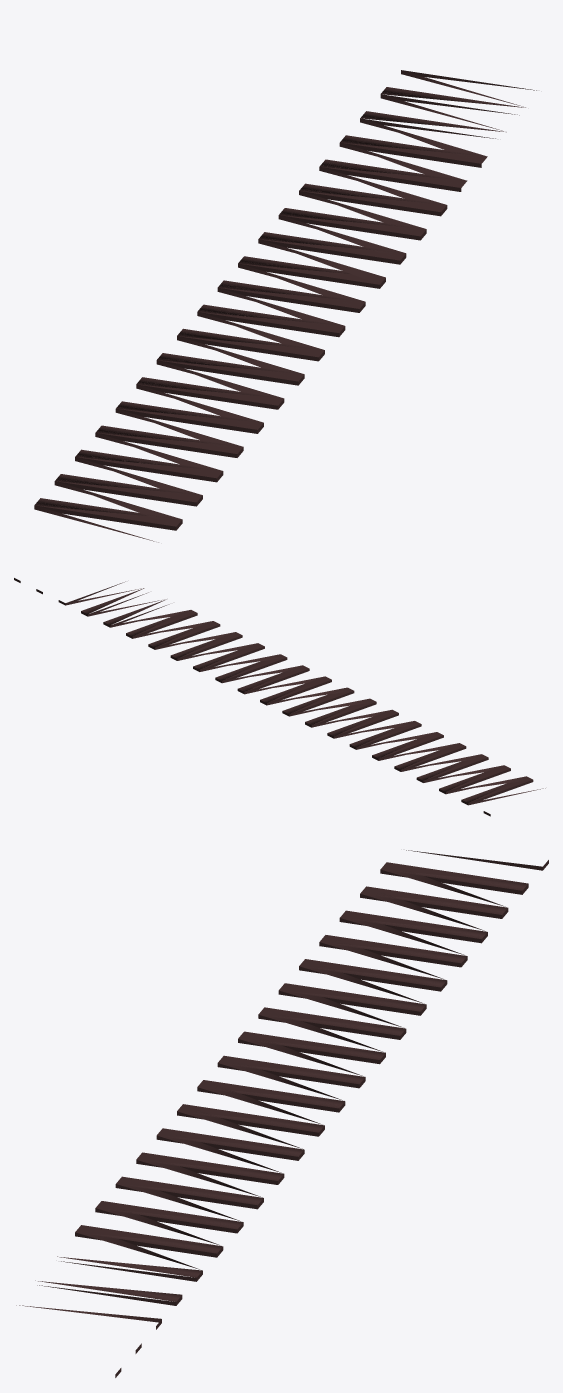
3 renders of one model, top to bottom at view 1: azimuth 90°, elevation 25°; view 2: azimuth 150°, elevation 25°; view 3: azimuth 270°, elevation 25°, orthographic. The views are drawn at different scales.
Bounding box in the file's own units: 17.73 × 0.064 × 7.58.
